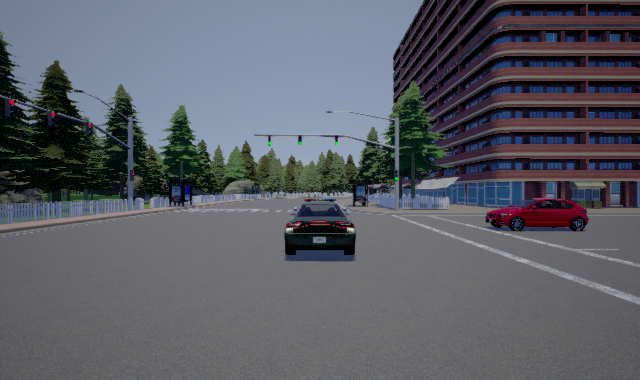traffic_light: (5, 99, 16, 117), (48, 111, 57, 127), (85, 122, 93, 136), (130, 170, 136, 181), (394, 170, 398, 181), (298, 135, 302, 145), (268, 135, 271, 146), (335, 135, 338, 145)
vehicle: (284, 199, 356, 255), (485, 198, 589, 231)
